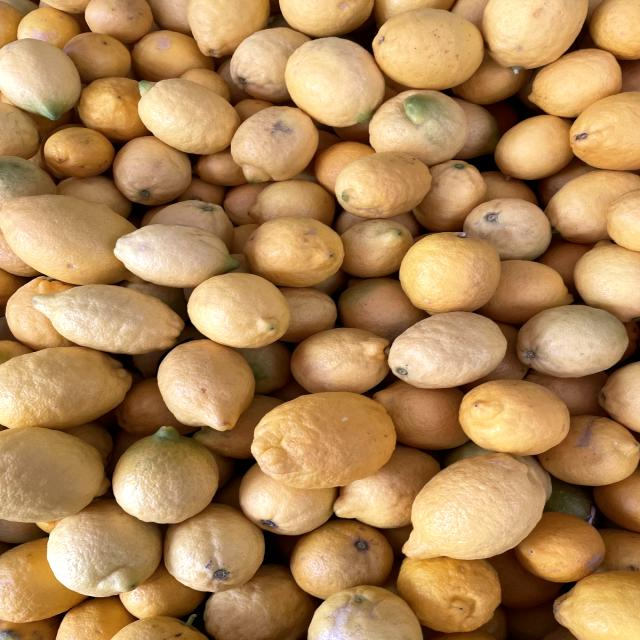lemon: (387, 445, 561, 567), (244, 390, 407, 492), (447, 371, 589, 464), (102, 424, 226, 530), (360, 2, 500, 95), (32, 283, 185, 359), (97, 213, 245, 288), (385, 304, 507, 394), (128, 69, 241, 163), (151, 331, 249, 439), (327, 143, 444, 228)
